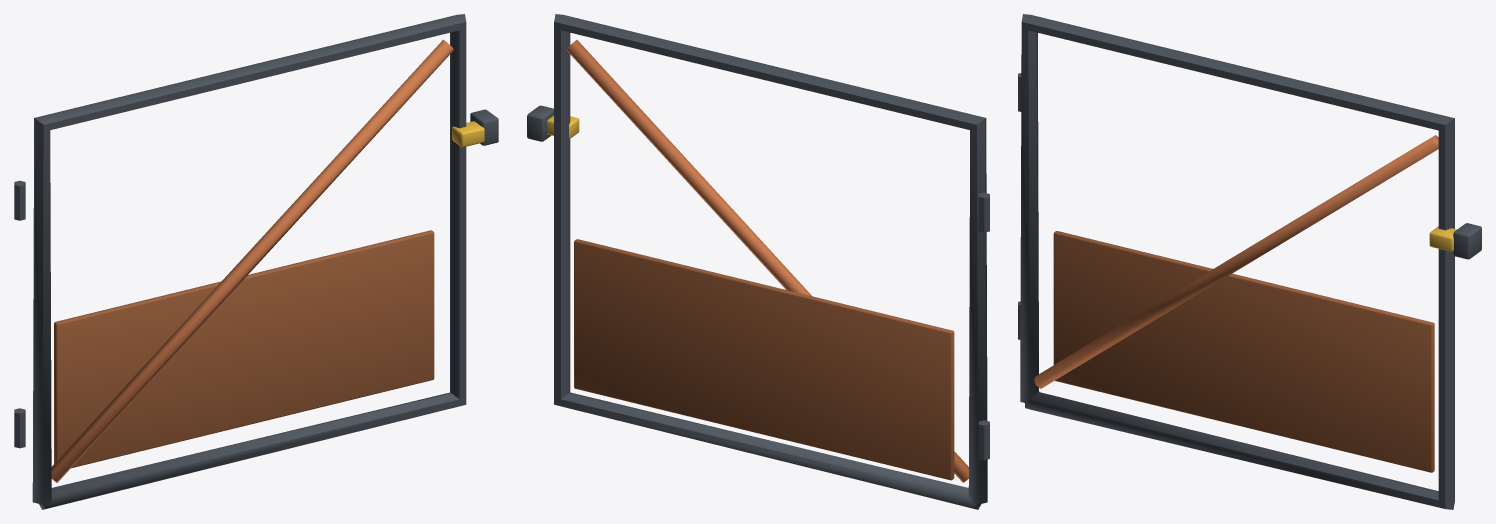
The model's file is fence-pipe-gate.glb.
The picture shows the model from 3 angles, left to right: view 1: azimuth 30°, elevation 25°; view 2: azimuth 150°, elevation 25°; view 3: azimuth 330°, elevation 25°; orthographic projection.
Parts seen in each view (by area): view 1: gate, frame; view 2: gate, frame; view 3: gate, frame.
Boxes of the visible parts, bbox=[...] form: gate: bbox=[32, 14, 484, 509]; frame: bbox=[14, 109, 498, 448]; gate: bbox=[547, 14, 987, 509]; frame: bbox=[527, 105, 989, 460]; gate: bbox=[1020, 14, 1456, 509]; frame: bbox=[1018, 73, 1481, 339].
Bounding box in the file's own units: 0.9895 × 0.7941 × 0.0804.
